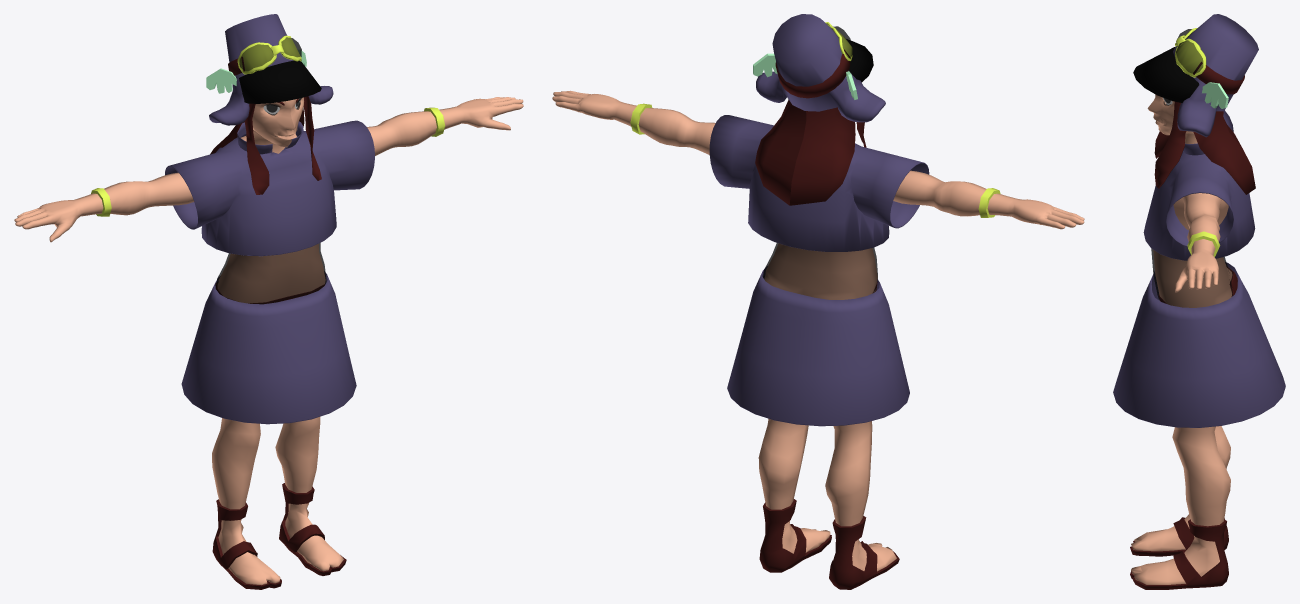
File: hermes_updated.fbx
3 views of the same model, side by side, from view 1: azimuth 30°, elevation 25°; view 2: azimuth 150°, elevation 25°; view 3: azimuth 270°, elevation 25° (orthographic). The views are drawn at different scales.
Parts seen in each view (by area): view 1: body.001, Skirt, Shirt, Hat, midriff, sandals, Hair, Goggles; view 2: body.001, Skirt, Shirt, Hat, Hair, midriff, sandals, Goggles; view 3: Skirt, body.001, Hat, Shirt, Hair, sandals, midriff, Goggles, bracelets.
Boxes of the visible parts, box(x1,y1,x2,y2) form: body.001: box(14, 97, 523, 585); Skirt: box(181, 271, 356, 424); Shirt: box(165, 120, 374, 256); Hat: box(206, 14, 333, 125); midriff: box(215, 243, 326, 304); sandals: box(212, 483, 346, 589); Hair: box(210, 96, 321, 194); Goggles: box(228, 35, 301, 75); body.001: box(552, 90, 1084, 571); Skirt: box(727, 266, 909, 426); Shirt: box(709, 115, 929, 251); Hat: box(753, 14, 885, 122); Hair: box(755, 99, 866, 205); midriff: box(763, 243, 877, 299); sandals: box(759, 499, 899, 589); Goggles: box(775, 22, 852, 98); Skirt: box(1113, 262, 1285, 427); body.001: box(1131, 94, 1232, 584); Hat: box(1133, 14, 1258, 137); Shirt: box(1143, 110, 1255, 260); Hair: box(1154, 101, 1255, 194); sandals: box(1130, 517, 1228, 589); midriff: box(1151, 248, 1233, 307); Goggles: box(1175, 28, 1244, 94); bracelets: box(1187, 231, 1220, 257).
Size of the model in its own units: 184 by 186 by 53.16.
